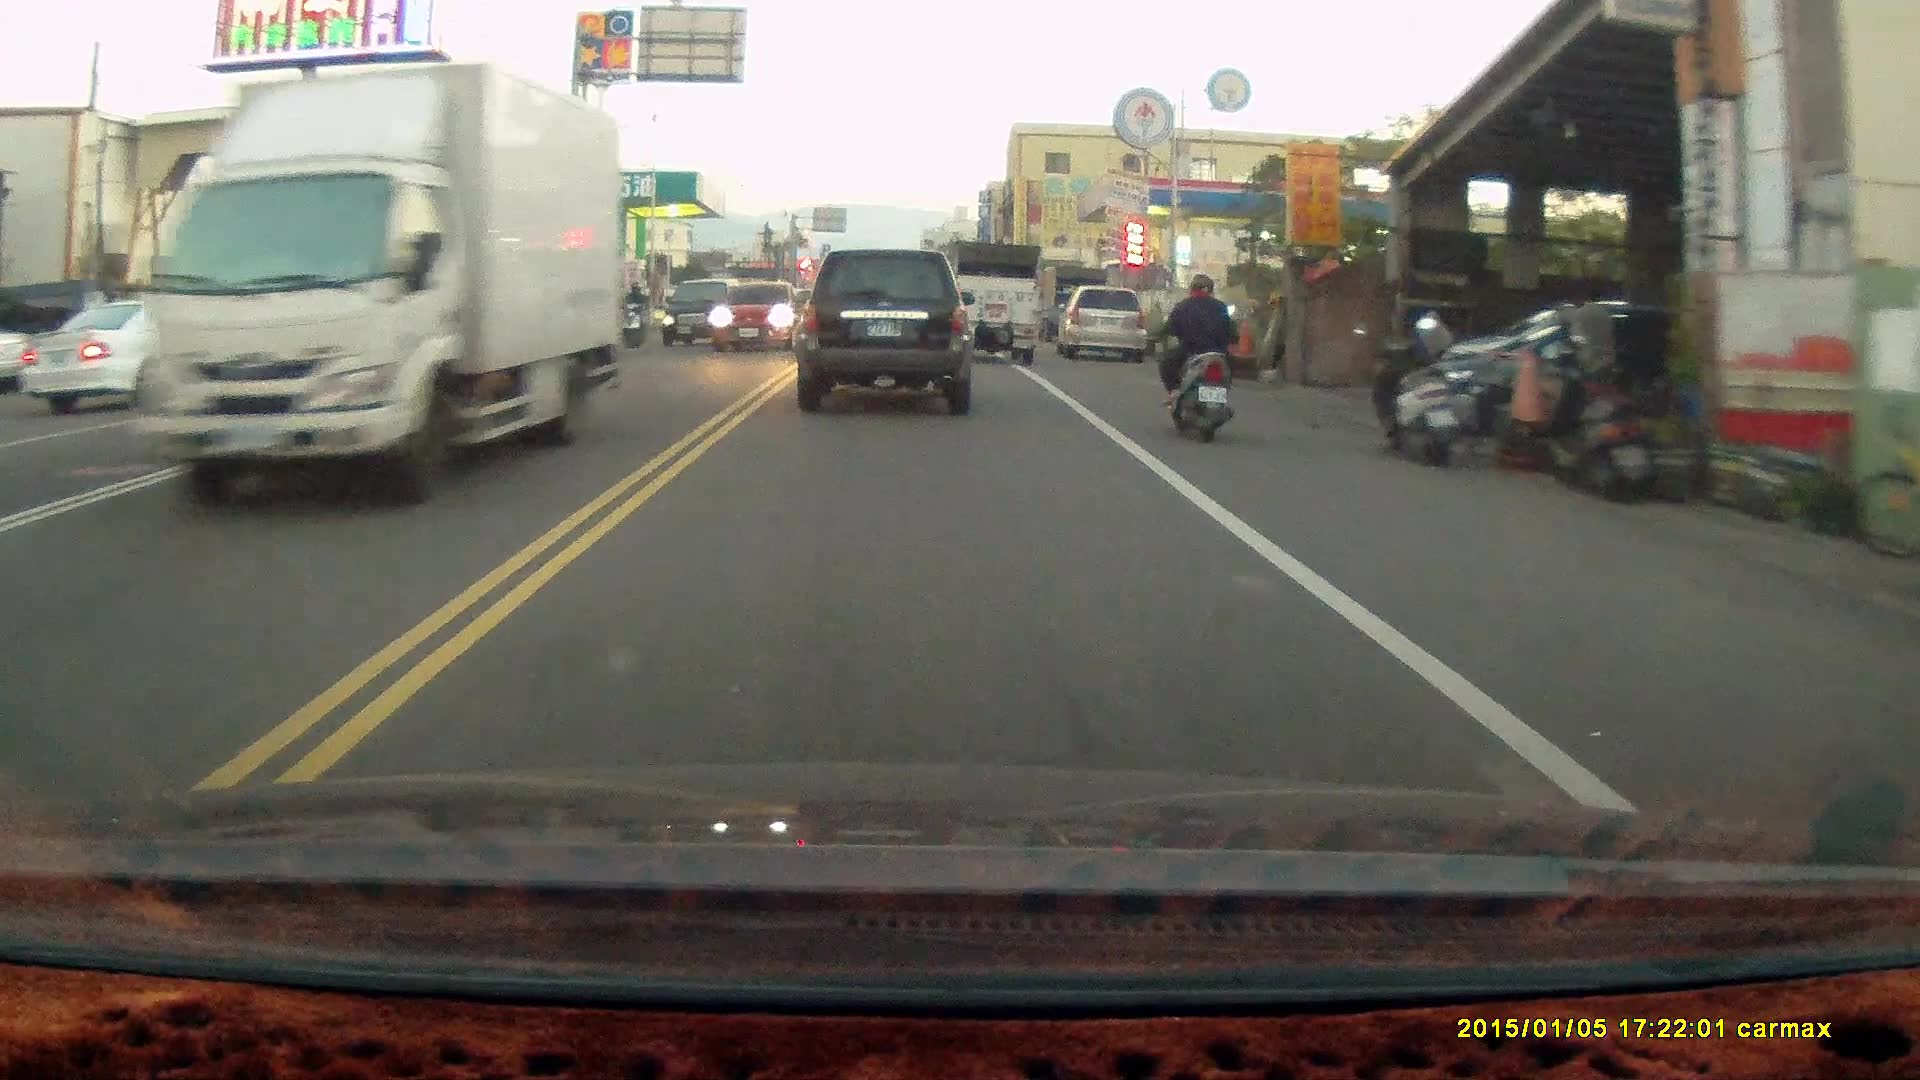pedestrian: (1567, 280, 1619, 423)
rider: (1151, 270, 1240, 444), (614, 278, 650, 347)
vehicle: (142, 66, 632, 506), (791, 246, 975, 416), (27, 299, 205, 406), (949, 237, 1042, 362), (707, 283, 809, 355), (1061, 284, 1146, 363)
